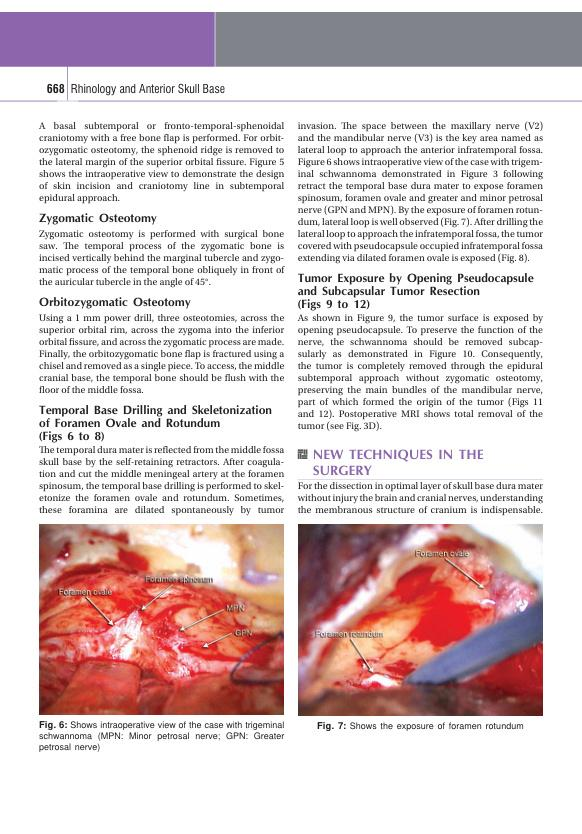caption: (37, 719, 286, 754), (315, 721, 525, 732), (297, 299, 371, 312), (38, 430, 105, 444)
header: (70, 82, 226, 96)
image: (38, 523, 285, 716), (297, 523, 543, 716)
section-heading: (311, 447, 484, 477)
sub-section-heading: (297, 271, 536, 298), (38, 403, 273, 428), (38, 296, 192, 310), (38, 212, 158, 226)
text: (296, 120, 544, 265), (297, 313, 544, 432), (37, 120, 285, 205), (37, 313, 286, 395), (37, 445, 286, 516), (38, 229, 286, 289), (296, 480, 545, 517)
